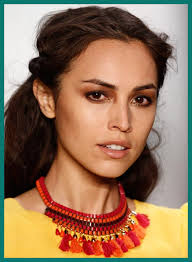indian_female: (11, 1, 178, 189)
